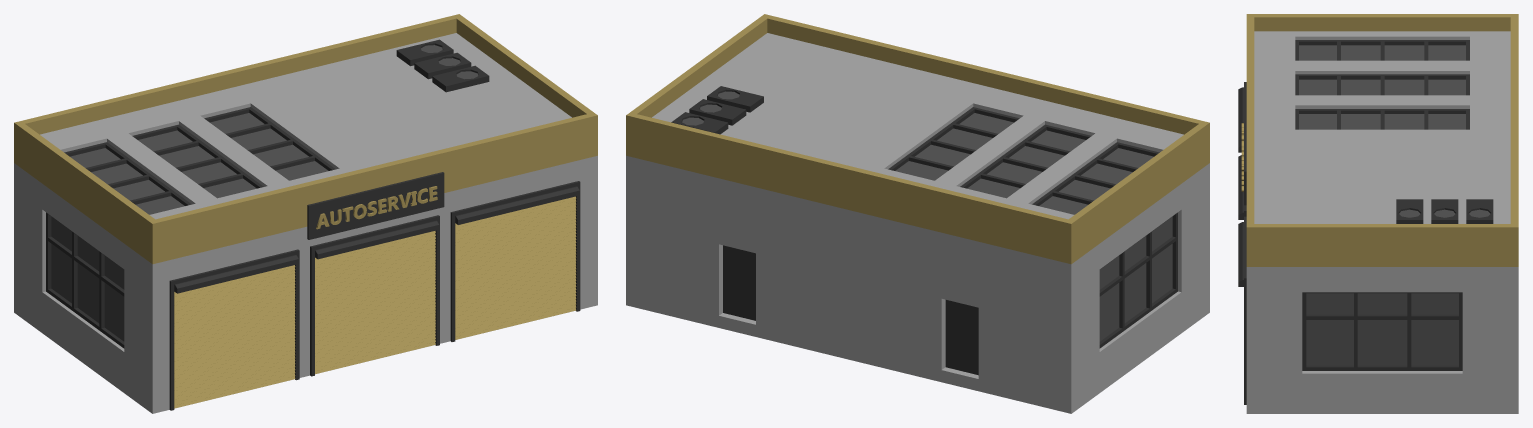
Rendered from Autoservice.fbx.
3 renders of one model, left to right at view 1: azimuth 30°, elevation 25°; view 2: azimuth 150°, elevation 25°; view 3: azimuth 270°, elevation 25°, orthographic.
Parts seen in each view (by area): view 1: Autoservice; view 2: Autoservice; view 3: Autoservice.
Boxes of the visible parts, x1,y1,x2,y2 form: Autoservice: (14,14,597,413); Autoservice: (626,14,1209,413); Autoservice: (1238,14,1518,413).
Bounding box in the file's own units: 6500 × 2650 × 3605.
